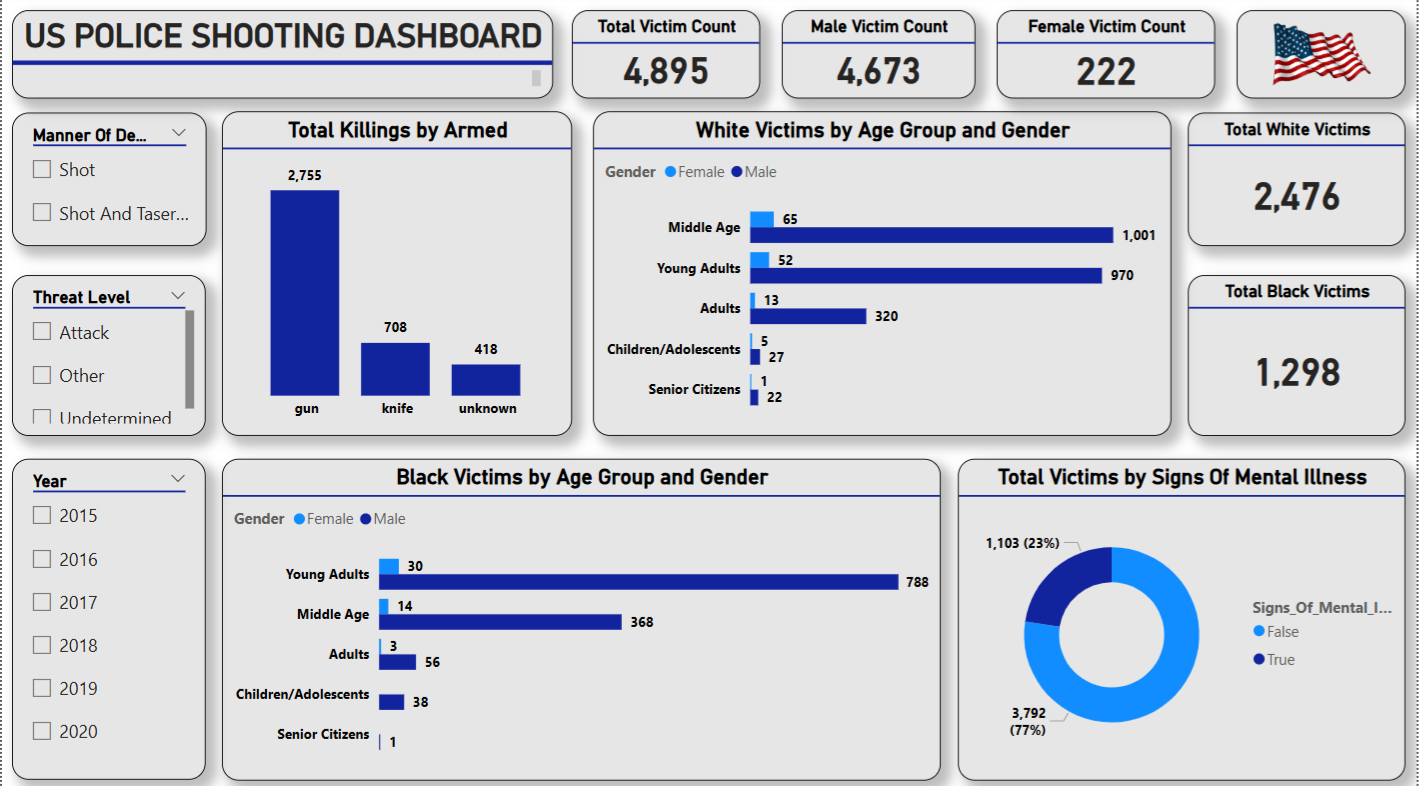

This screenshot's page, from the dashboard's own definition file:
{"tool":"powerbi","page":{"name":"Overview","canvas":[1280,720],"ordinal":0},"visuals":[{"type":"card","title":"Male Victim Count","fields":{"Values":["New_Measures.Male Killings"]},"box":[705.5,13.6,175.3,80.3],"z":0},{"type":"card","title":"Total Victim Count","fields":{"Values":["New_Measures.Total Killings"]},"box":[515.6,13.6,170.7,80.3],"z":1000},{"type":"card","title":"Total Black Victims","fields":{"Values":["New_Measures.BlackKillings"]},"box":[1073,253.3,196.7,145.9],"z":2000},{"type":"card","title":"Total White Victims","fields":{"Values":["New_Measures.WhiteKillings"]},"box":[1073,106.3,196.7,121],"z":3000},{"type":"clusteredBarChart","title":"Black Victims by Age Group and Gender","fields":{"Y":["New_Measures.Black Killings"],"Category":["Victims Demographics.AgeGroup"],"Series":["Victims Demographics.Gender"]},"box":[199,419.9,650.4,290.9],"z":4000},{"type":"clusteredBarChart","title":"White Victims by Age Group and Gender","fields":{"Y":["New_Measures.White Killings"],"Category":["Victims Demographics.AgeGroup"],"Series":["Victims Demographics.Gender"]},"box":[535.2,105.7,522.8,293.7],"z":5000},{"type":"donutChart","title":"% Victims across Signs Of Mental Illness","fields":{"Category":["Victims Demographics.Signs_Of_Mental_Illness"],"Y":["New_Measures.Total Killings"]},"box":[864.5,419.9,404.8,290.9],"z":6000},{"type":"slicer","fields":{"Values":["Event Date.Year"]},"box":[9.3,419.8,175.6,290.7],"z":7000},{"type":"slicer","fields":{"Values":["Victims Demographics.Threat_Level"]},"box":[9.3,253.5,175.6,145.3],"z":8000},{"type":"slicer","fields":{"Values":["Victims Demographics.Manner_Of_Death"]},"box":[9,106.3,176.4,121],"z":9000},{"type":"textbox","title":"US POLICE SHOOTING DASHBOARD","box":[9.3,14,489.5,80.2],"z":10000},{"type":"image","box":[1117.1,13.6,152.6,80.3],"z":11000},{"type":"card","title":"Female Victim Count","fields":{"Values":["New_Measures.FemaleKillings"]},"box":[900,13.6,197.9,80.3],"z":12000},{"type":"clusteredColumnChart","fields":{"Category":["Victims Demographics.Armed"],"Y":["New_Measures.Total Killings"]},"box":[199,105.7,317,293.7],"z":13000}]}

Visuals, with their boxes in screenshot pixels (x1, y1, x2, y2), scaled from the page's 1280x720 canvas onto the 1421x786 screenshot:
"Male Victim Count" card: Rect(783, 15, 978, 103)
"Total Victim Count" card: Rect(572, 15, 762, 103)
"Total Black Victims" card: Rect(1191, 277, 1410, 436)
"Total White Victims" card: Rect(1191, 116, 1410, 248)
"Black Victims by Age Group and Gender" clusteredBarChart: Rect(221, 458, 943, 776)
"White Victims by Age Group and Gender" clusteredBarChart: Rect(594, 115, 1175, 436)
"% Victims across Signs Of Mental Illness" donutChart: Rect(960, 458, 1409, 776)
slicer - Event Date.Year: Rect(10, 458, 205, 776)
slicer - Victims Demographics.Threat_Level: Rect(10, 277, 205, 435)
slicer - Victims Demographics.Manner_Of_Death: Rect(10, 116, 206, 248)
"US POLICE SHOOTING DASHBOARD" textbox: Rect(10, 15, 554, 103)
image: Rect(1240, 15, 1410, 103)
"Female Victim Count" card: Rect(999, 15, 1219, 103)
clusteredColumnChart - Victims Demographics.Armed x New_Measures.Total Killings: Rect(221, 115, 573, 436)
